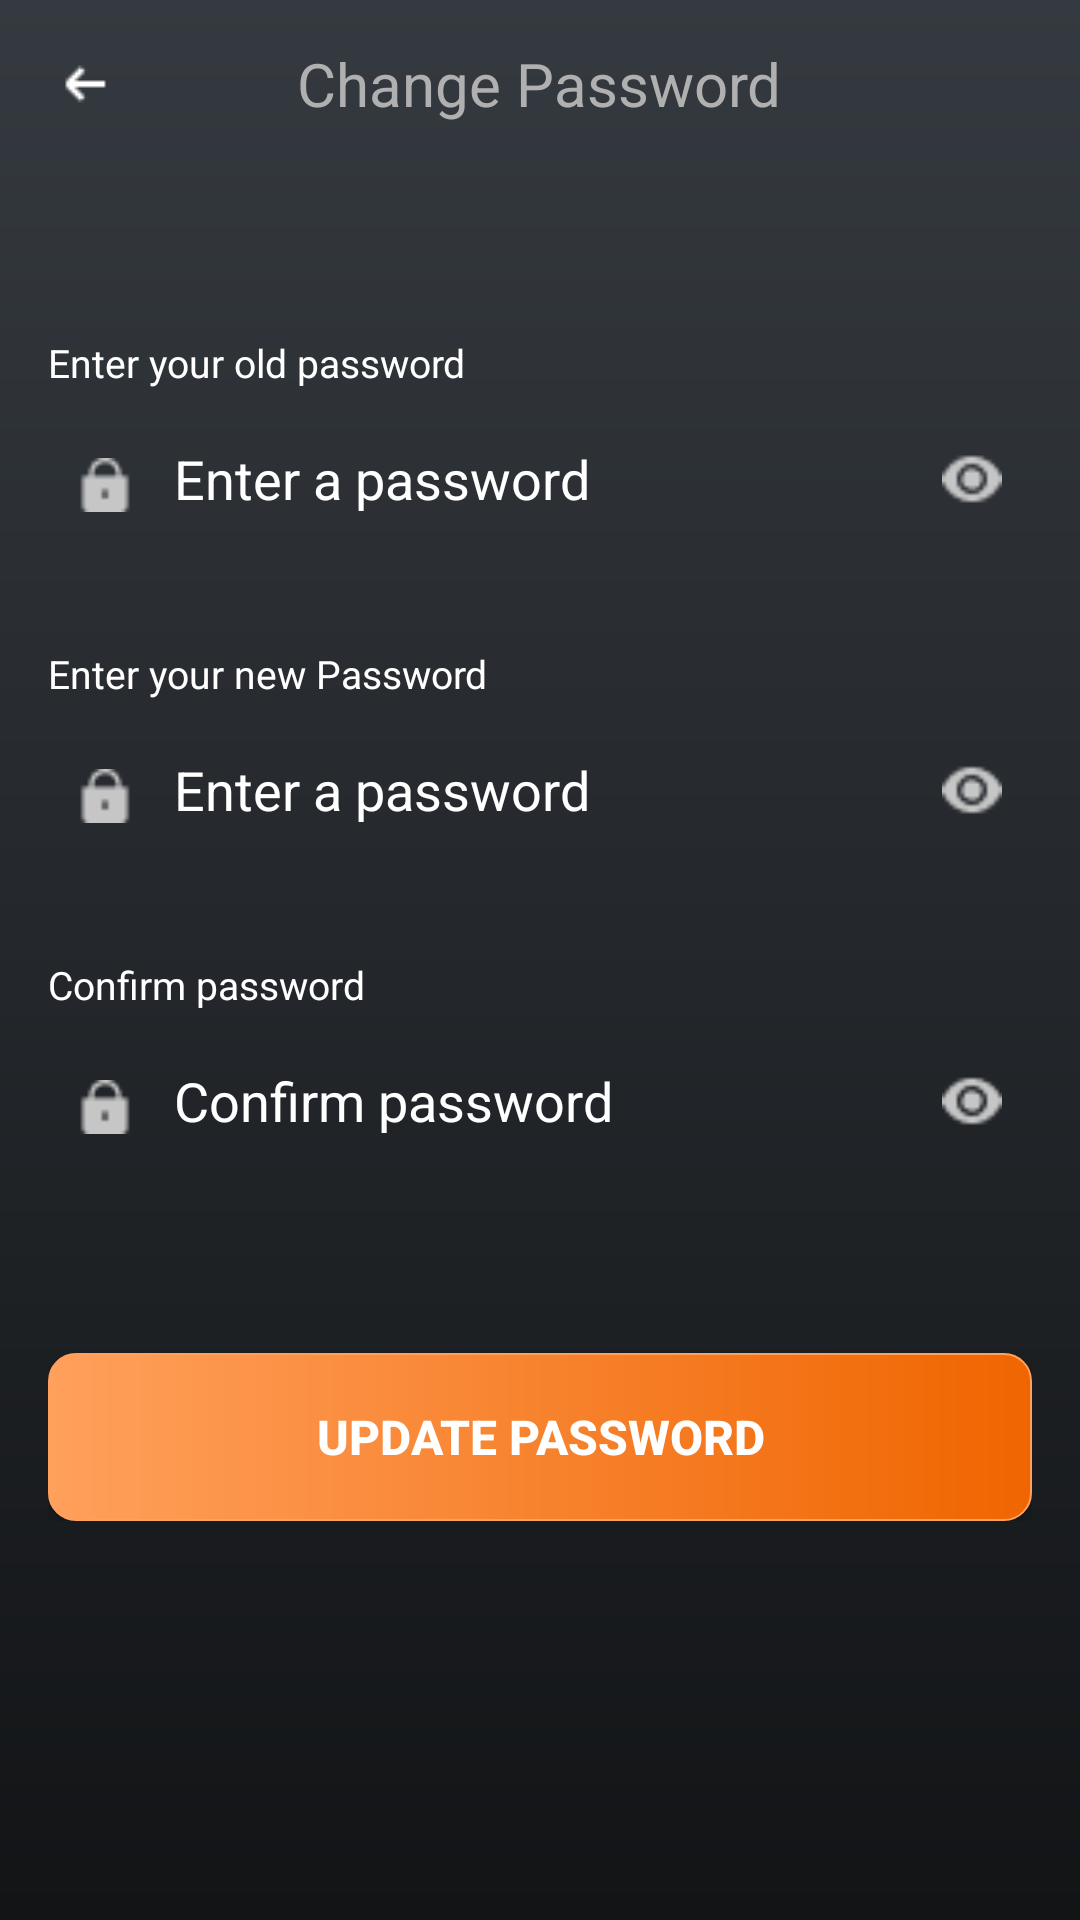

Named icons in this screenshot (1080×1920) and their centers, [x,y]:
backarrow: [85,83]
eye: [972,479], [972,790], [972,1101]
lock: [105,485], [105,796], [105,1107]
